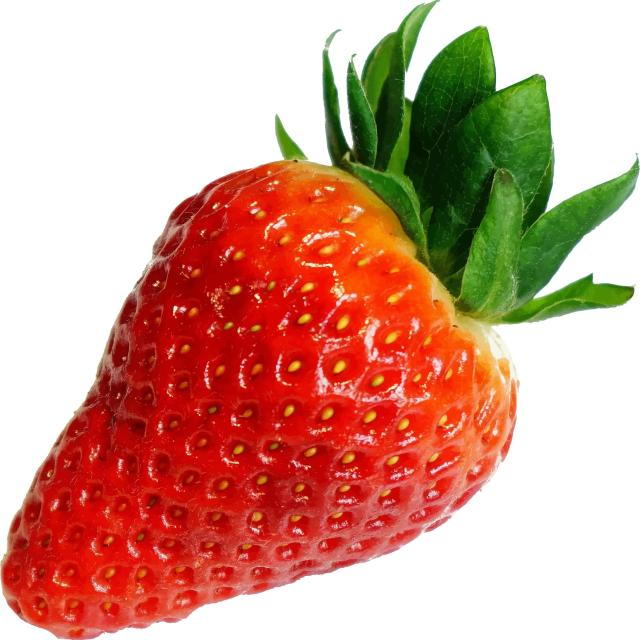strawberry: (0, 30, 640, 640)
